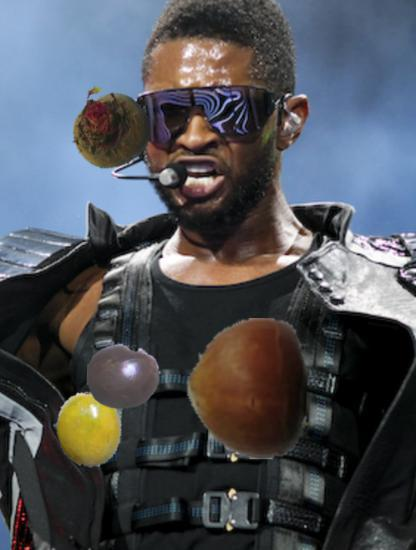Beetroot: (65, 81, 154, 170)
Maracuja: (50, 391, 128, 469)
Nut: (177, 318, 318, 459)
Passion: (87, 340, 161, 414)
